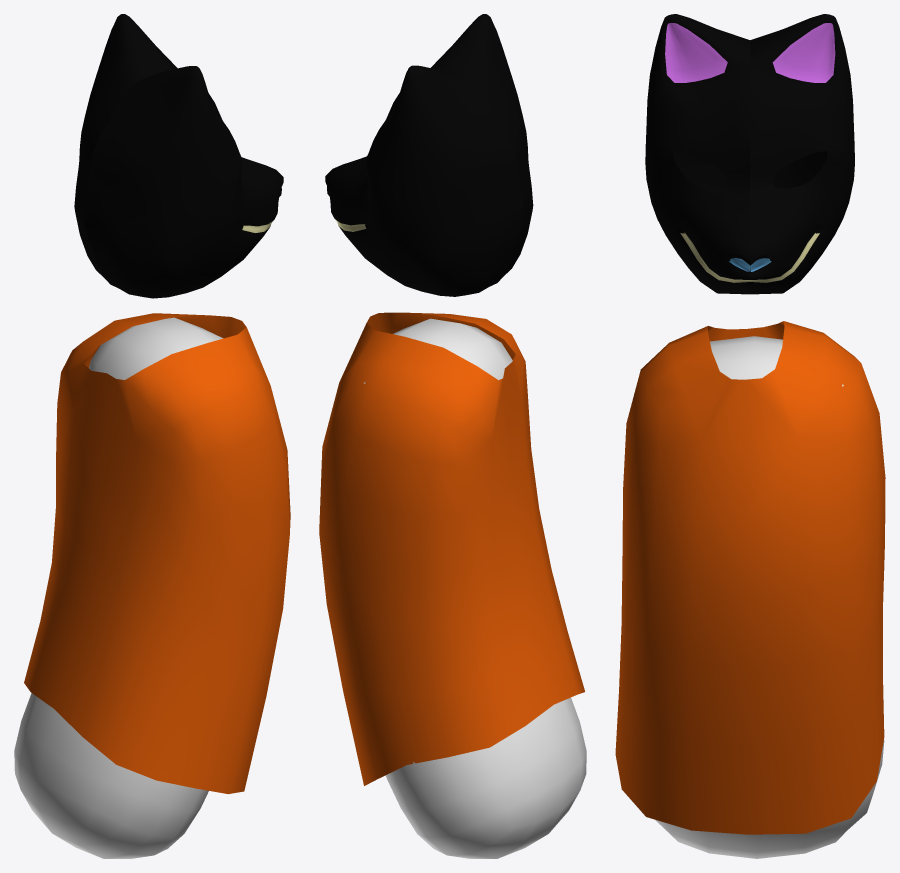
The model's file is NPC 12.fbx.
3 views of the same model, side by side, from view 1: azimuth 30°, elevation 25°; view 2: azimuth 150°, elevation 25°; view 3: azimuth 270°, elevation 25° (orthographic). The views are drawn at different scales.
Visible parts, largest first — view 1: T-shirt.013, Mask.012, body.013; view 2: T-shirt.013, Mask.012, body.013; view 3: T-shirt.013, Mask.012, body.013.
Boxes of the visible parts, <box> form: T-shirt.013: <box>24,313,290,794</box>; Mask.012: <box>74,14,283,298</box>; body.013: <box>14,317,223,858</box>; T-shirt.013: <box>319,312,584,785</box>; Mask.012: <box>325,14,533,296</box>; body.013: <box>363,318,586,858</box>; T-shirt.013: <box>615,321,885,834</box>; Mask.012: <box>645,14,854,294</box>; body.013: <box>655,336,884,858</box>.
Bounding box in the file's own units: 2.38 × 7.48 × 2.12.
